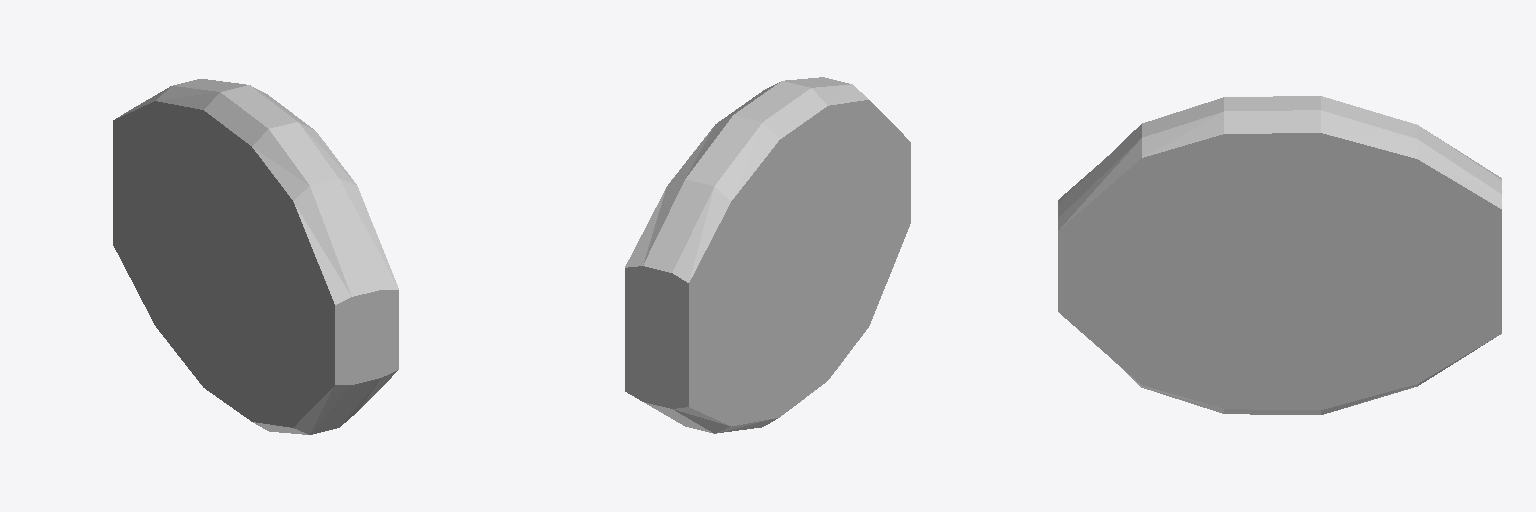
Rendered from ghost-head.obj.
3 renders of one model, left to right at view 1: azimuth 30°, elevation 25°; view 2: azimuth 150°, elevation 25°; view 3: azimuth 270°, elevation 25°, orthographic.
Parts seen in each view (by area): view 1: ghost1-head-copy_Cube.007; view 2: ghost1-head-copy_Cube.007; view 3: ghost1-head-copy_Cube.007.
Boxes of the visible parts, <box> form: ghost1-head-copy_Cube.007: <box>113,79,398,434</box>; ghost1-head-copy_Cube.007: <box>625,77,910,433</box>; ghost1-head-copy_Cube.007: <box>1058,96,1501,414</box>.
Size of the model in its own units: 2 by 9.09 by 12.